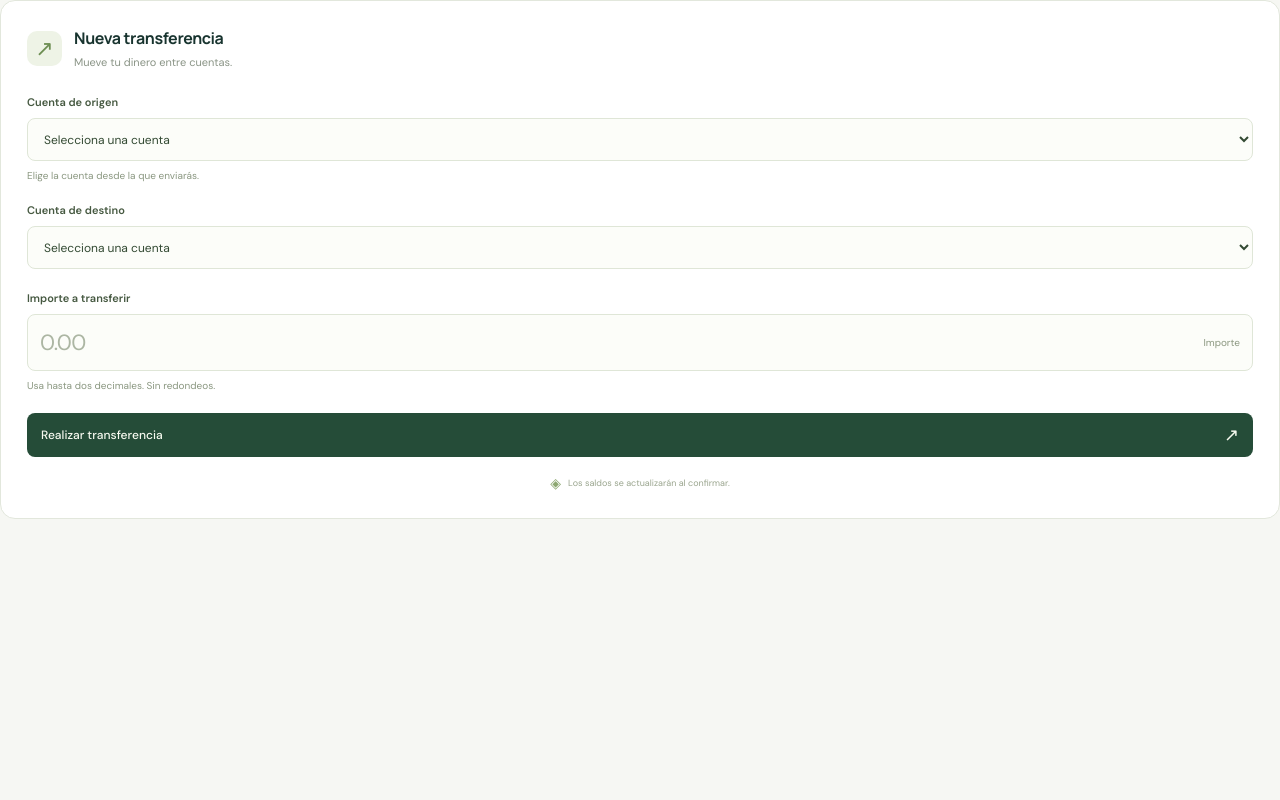
Test case: transfer form › validates before sending requests
Click the button "Realizar transferencia ↗" at coordinates (102, 435), box [27,413,1253,457]
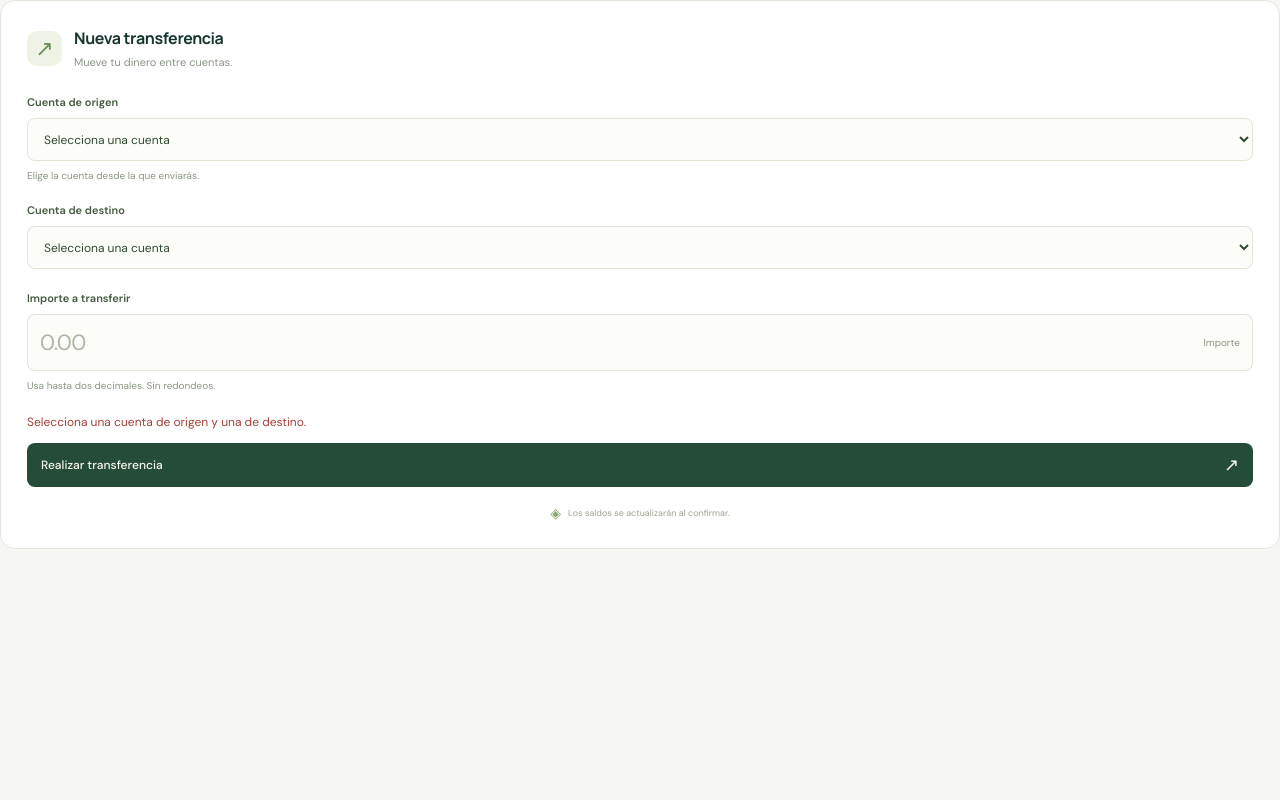
Now the message shows "Selecciona", box [27,414,306,430]
